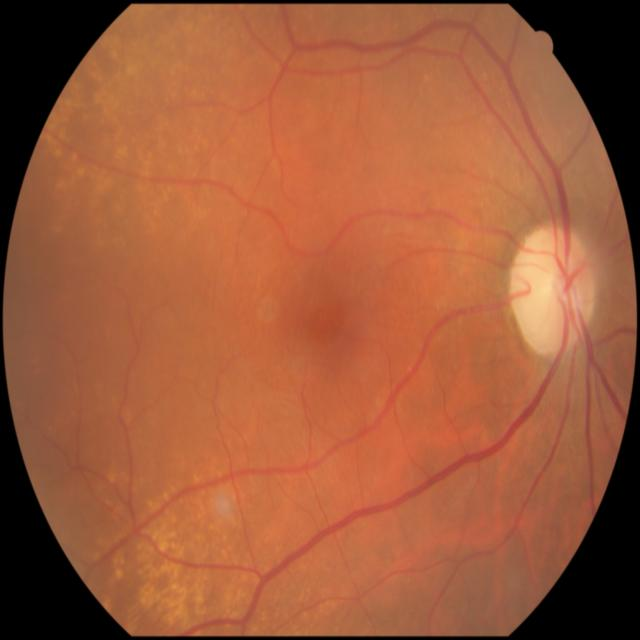OC: (536, 270, 562, 303)
OD: (510, 225, 600, 352)
